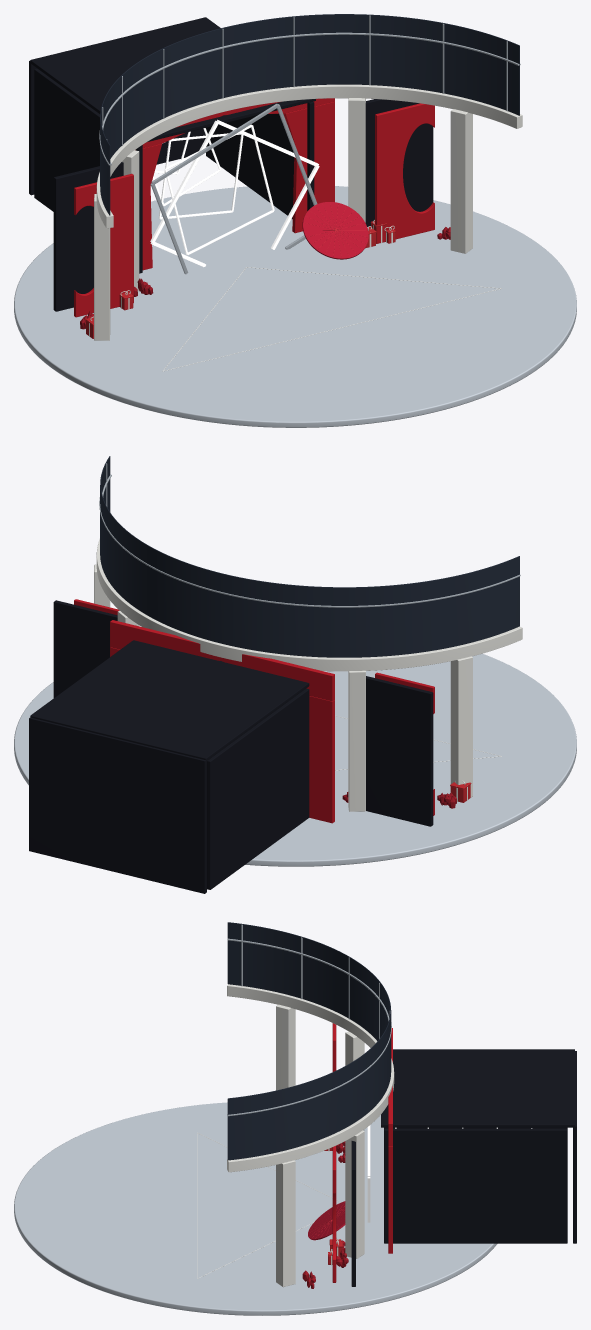
Rendered from R02_twistframe_hall.glb.
The picture shows the model from 3 angles, top to bottom: view 1: azimuth 30°, elevation 25°; view 2: azimuth 150°, elevation 25°; view 3: azimuth 270°, elevation 25°; orthographic projection. The views are drawn at different scales.
Visible parts, largest first — view 1: finite pale stage slab, upper curved dark glazing, tunnel upper dark return, tunnel left return, white curved upper fascia, tunnel right return, right red screen, left dark bay return, right dark bay return, left red screen, central red right flank, white pier +59 (+10 smaller); view 2: upper curved dark glazing, finite pale stage slab, tunnel distant dark stop, tunnel upper dark return, tunnel left return, left dark bay return, white curved upper fascia, right dark bay return, central red upper lintel, central red left flank, white pier -59, white pier -33 (+1 smaller); view 3: finite pale stage slab, tunnel right return, upper curved dark glazing, tunnel upper dark return, white curved upper fascia, white pier +59, white pier +33, white pier -59, upper narrow glazing rail, tilted crimson circular disc, right dark bay return, right red screen (+2 smaller).
Part boxes in pixels (x1=…): finite pale stage slab: x1=14, y1=186, x2=576, y2=427; upper curved dark glazing: x1=100, y1=14, x2=519, y2=215; tunnel upper dark return: x1=30, y1=17, x2=315, y2=141; tunnel left return: x1=34, y1=68, x2=142, y2=273; white curved upper fascia: x1=96, y1=84, x2=522, y2=228; tunnel right return: x1=206, y1=101, x2=314, y2=218; right red screen: x1=375, y1=103, x2=434, y2=243; left dark bay return: x1=53, y1=162, x2=123, y2=311; right dark bay return: x1=365, y1=99, x2=433, y2=226; left red screen: x1=74, y1=173, x2=133, y2=317; central red right flank: x1=283, y1=101, x2=334, y2=233; white pier +59: x1=450, y1=109, x2=472, y2=253; upper curved dark glazing: x1=100, y1=456, x2=519, y2=657; finite pale stage slab: x1=14, y1=653, x2=576, y2=866; tunnel distant dark stop: x1=29, y1=717, x2=206, y2=893; tunnel upper dark return: x1=30, y1=640, x2=309, y2=760; tunnel left return: x1=207, y1=688, x2=309, y2=889; left dark bay return: x1=366, y1=676, x2=433, y2=826; white curved upper fascia: x1=96, y1=539, x2=522, y2=671; right dark bay return: x1=53, y1=600, x2=117, y2=697; central red upper lintel: x1=110, y1=620, x2=334, y2=701; central red left flank: x1=309, y1=696, x2=334, y2=823; white pier -59: x1=450, y1=656, x2=472, y2=797; white pier -33: x1=348, y1=670, x2=365, y2=811; finite pale stage slab: x1=14, y1=1102, x2=497, y2=1315; tunnel right return: x1=384, y1=1128, x2=567, y2=1243; upper curved dark glazing: x1=227, y1=922, x2=391, y2=1160; tunnel upper dark return: x1=381, y1=1049, x2=574, y2=1127; white curved upper fascia: x1=227, y1=984, x2=394, y2=1172; white pier +59: x1=276, y1=1160, x2=295, y2=1287; white pier +33: x1=345, y1=1130, x2=364, y2=1258; white pier -59: x1=276, y1=1004, x2=295, y2=1090; upper narrow glazing rail: x1=227, y1=938, x2=391, y2=1116; tilted crimson circular disc: x1=308, y1=1201, x2=345, y2=1240; right dark bay return: x1=351, y1=1141, x2=355, y2=1286; right red screen: x1=332, y1=1146, x2=336, y2=1282.
Size of the model in its own units: 23 by 10.28 by 26.09.
